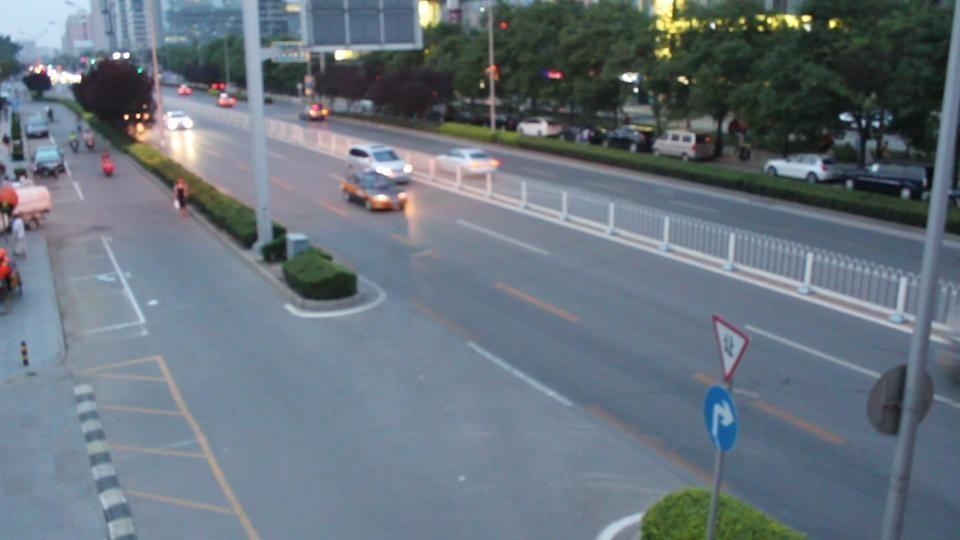car: (837, 162, 931, 200), (340, 170, 409, 211), (344, 143, 413, 184), (764, 153, 849, 185), (1, 178, 53, 229), (652, 130, 720, 162), (434, 148, 501, 179), (519, 123, 603, 142), (602, 126, 655, 154), (0, 250, 23, 307), (32, 144, 65, 177), (516, 119, 565, 139), (24, 109, 50, 139), (299, 101, 330, 122), (164, 111, 194, 130), (79, 128, 96, 151), (101, 151, 115, 176), (178, 84, 193, 96)
